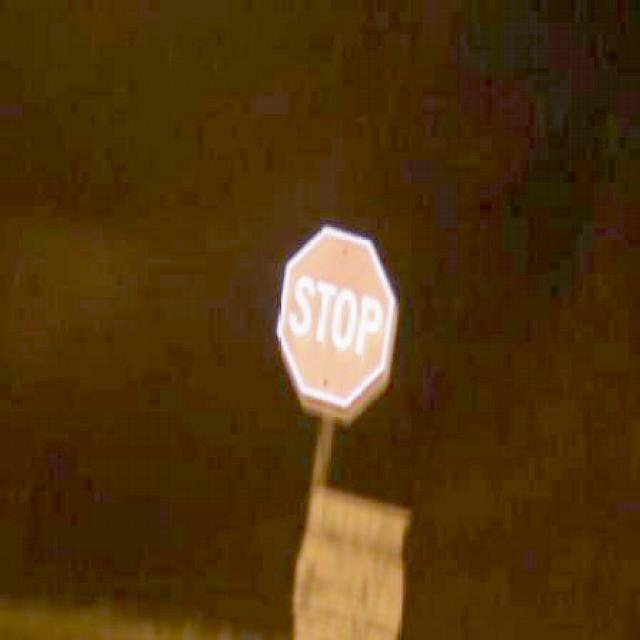stop_sign: (274, 223, 397, 414)
